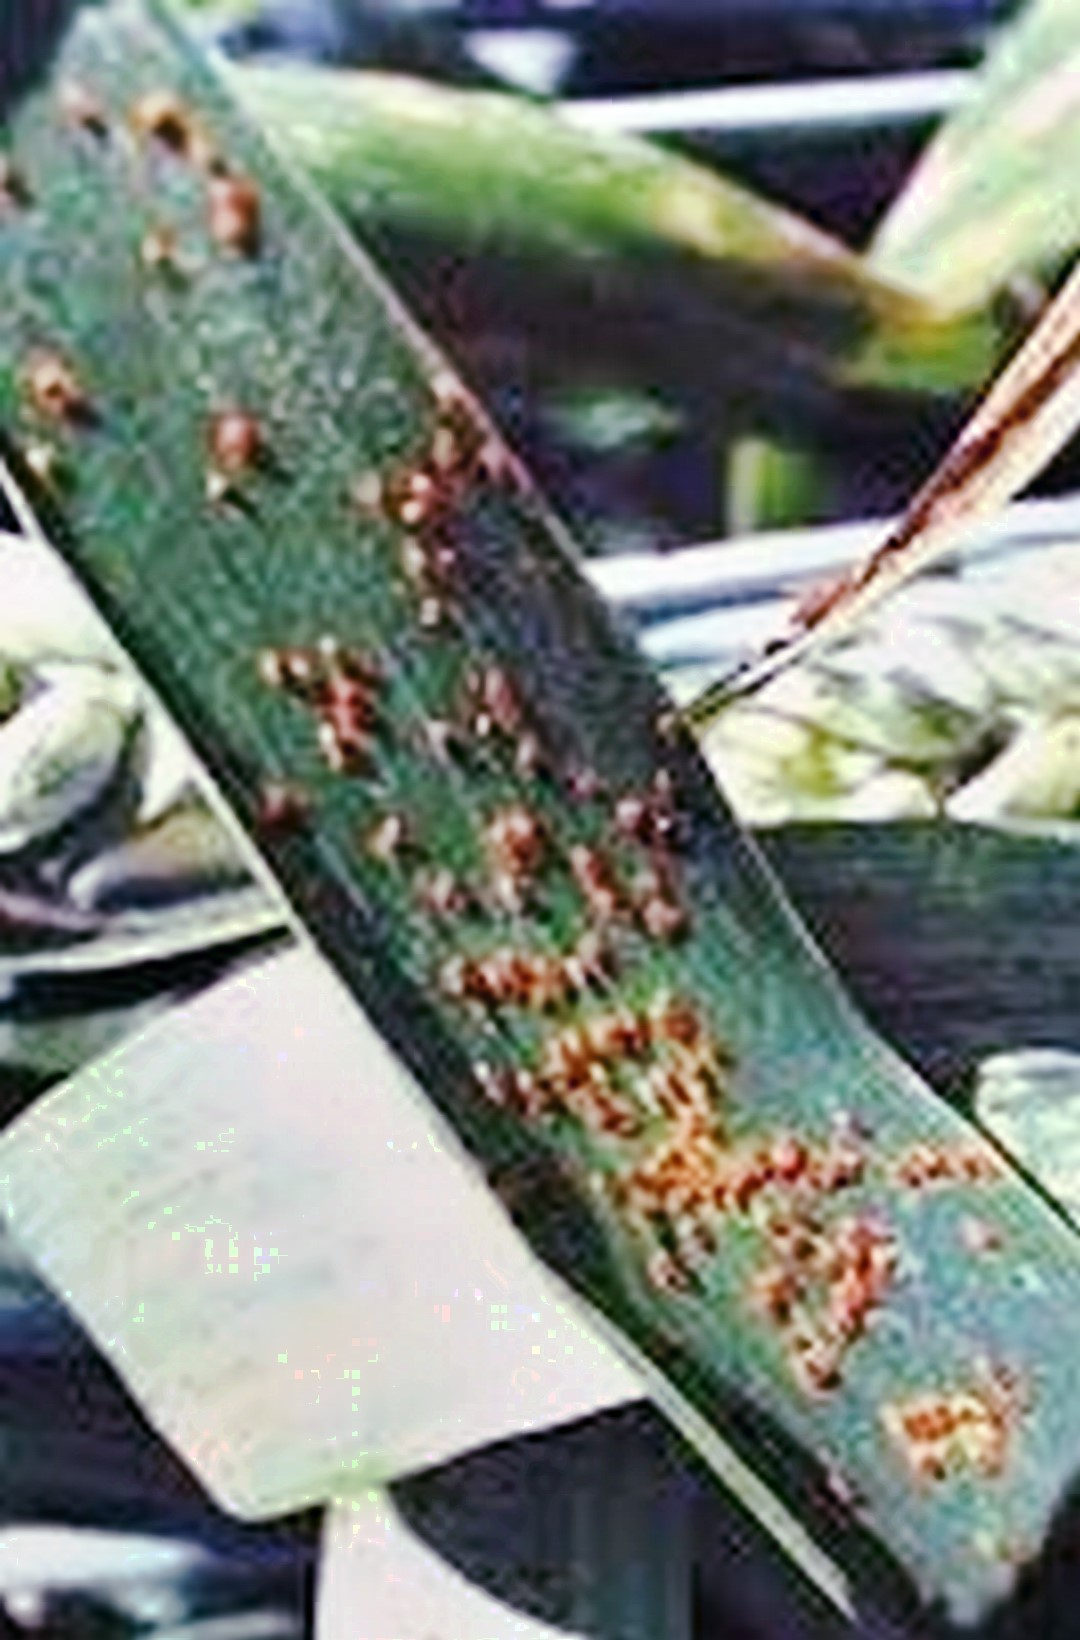Leaf Rust: (202, 398, 1067, 1498)
